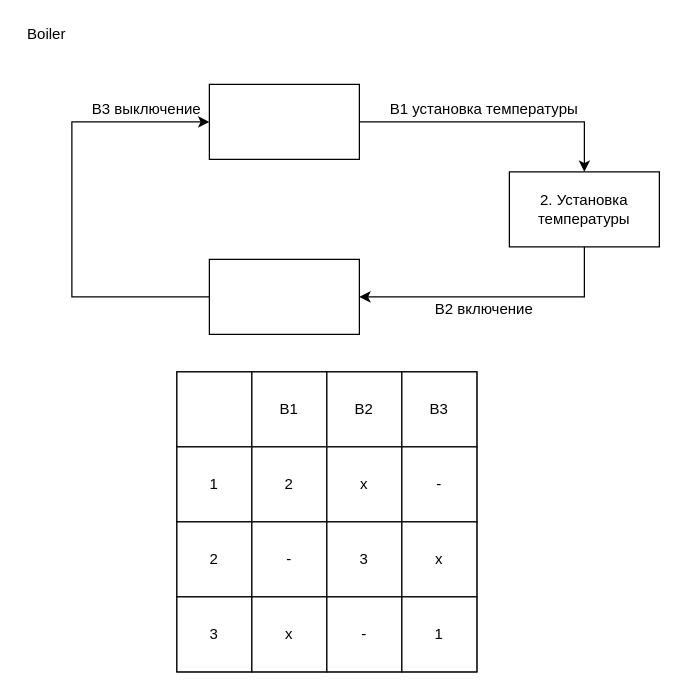
This 681x694 diagram has some shape labels left out. The centre of each missing label's shape, as x and y in pixels:
"1. Ожидание" belongs at (x=283, y=121).
"3. Работа" belongs at (x=283, y=296).
